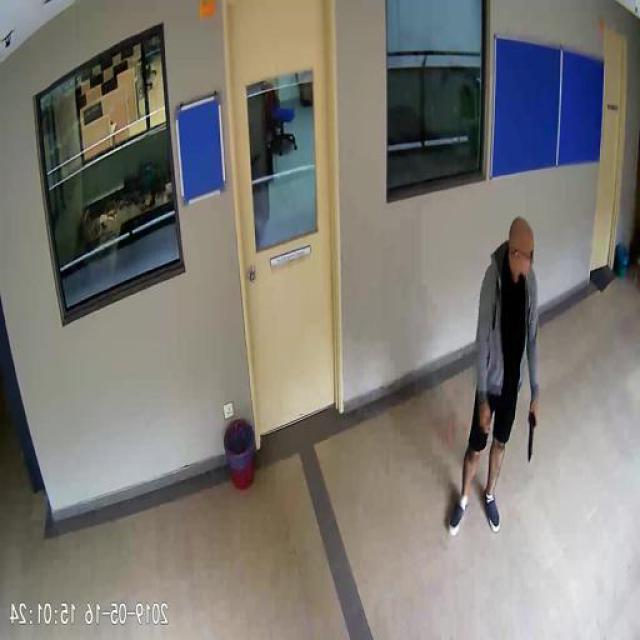Gun: (530, 404, 540, 458)
